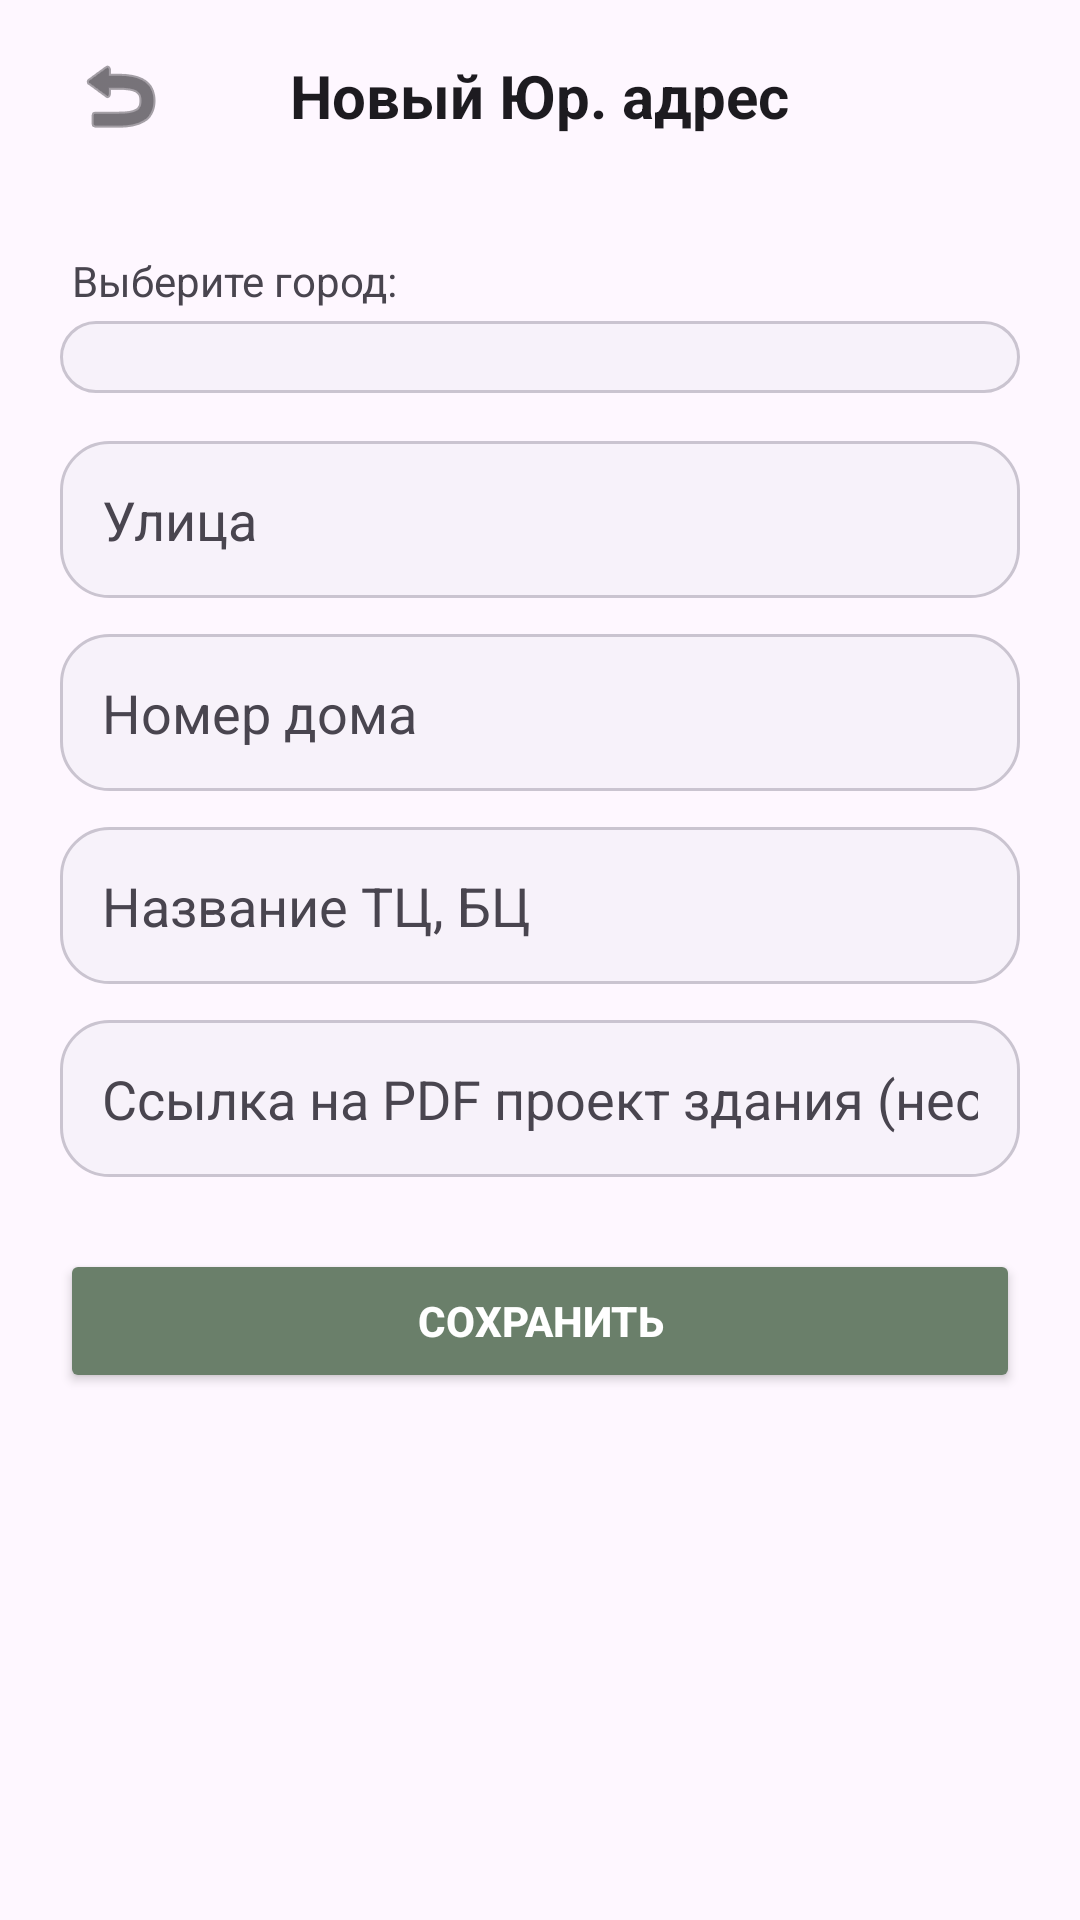

Icon bounding boxes for this 1080 × 1920 phone screenshot, format (x1, y1, x2, y2):
revert: (87, 65, 156, 128)
